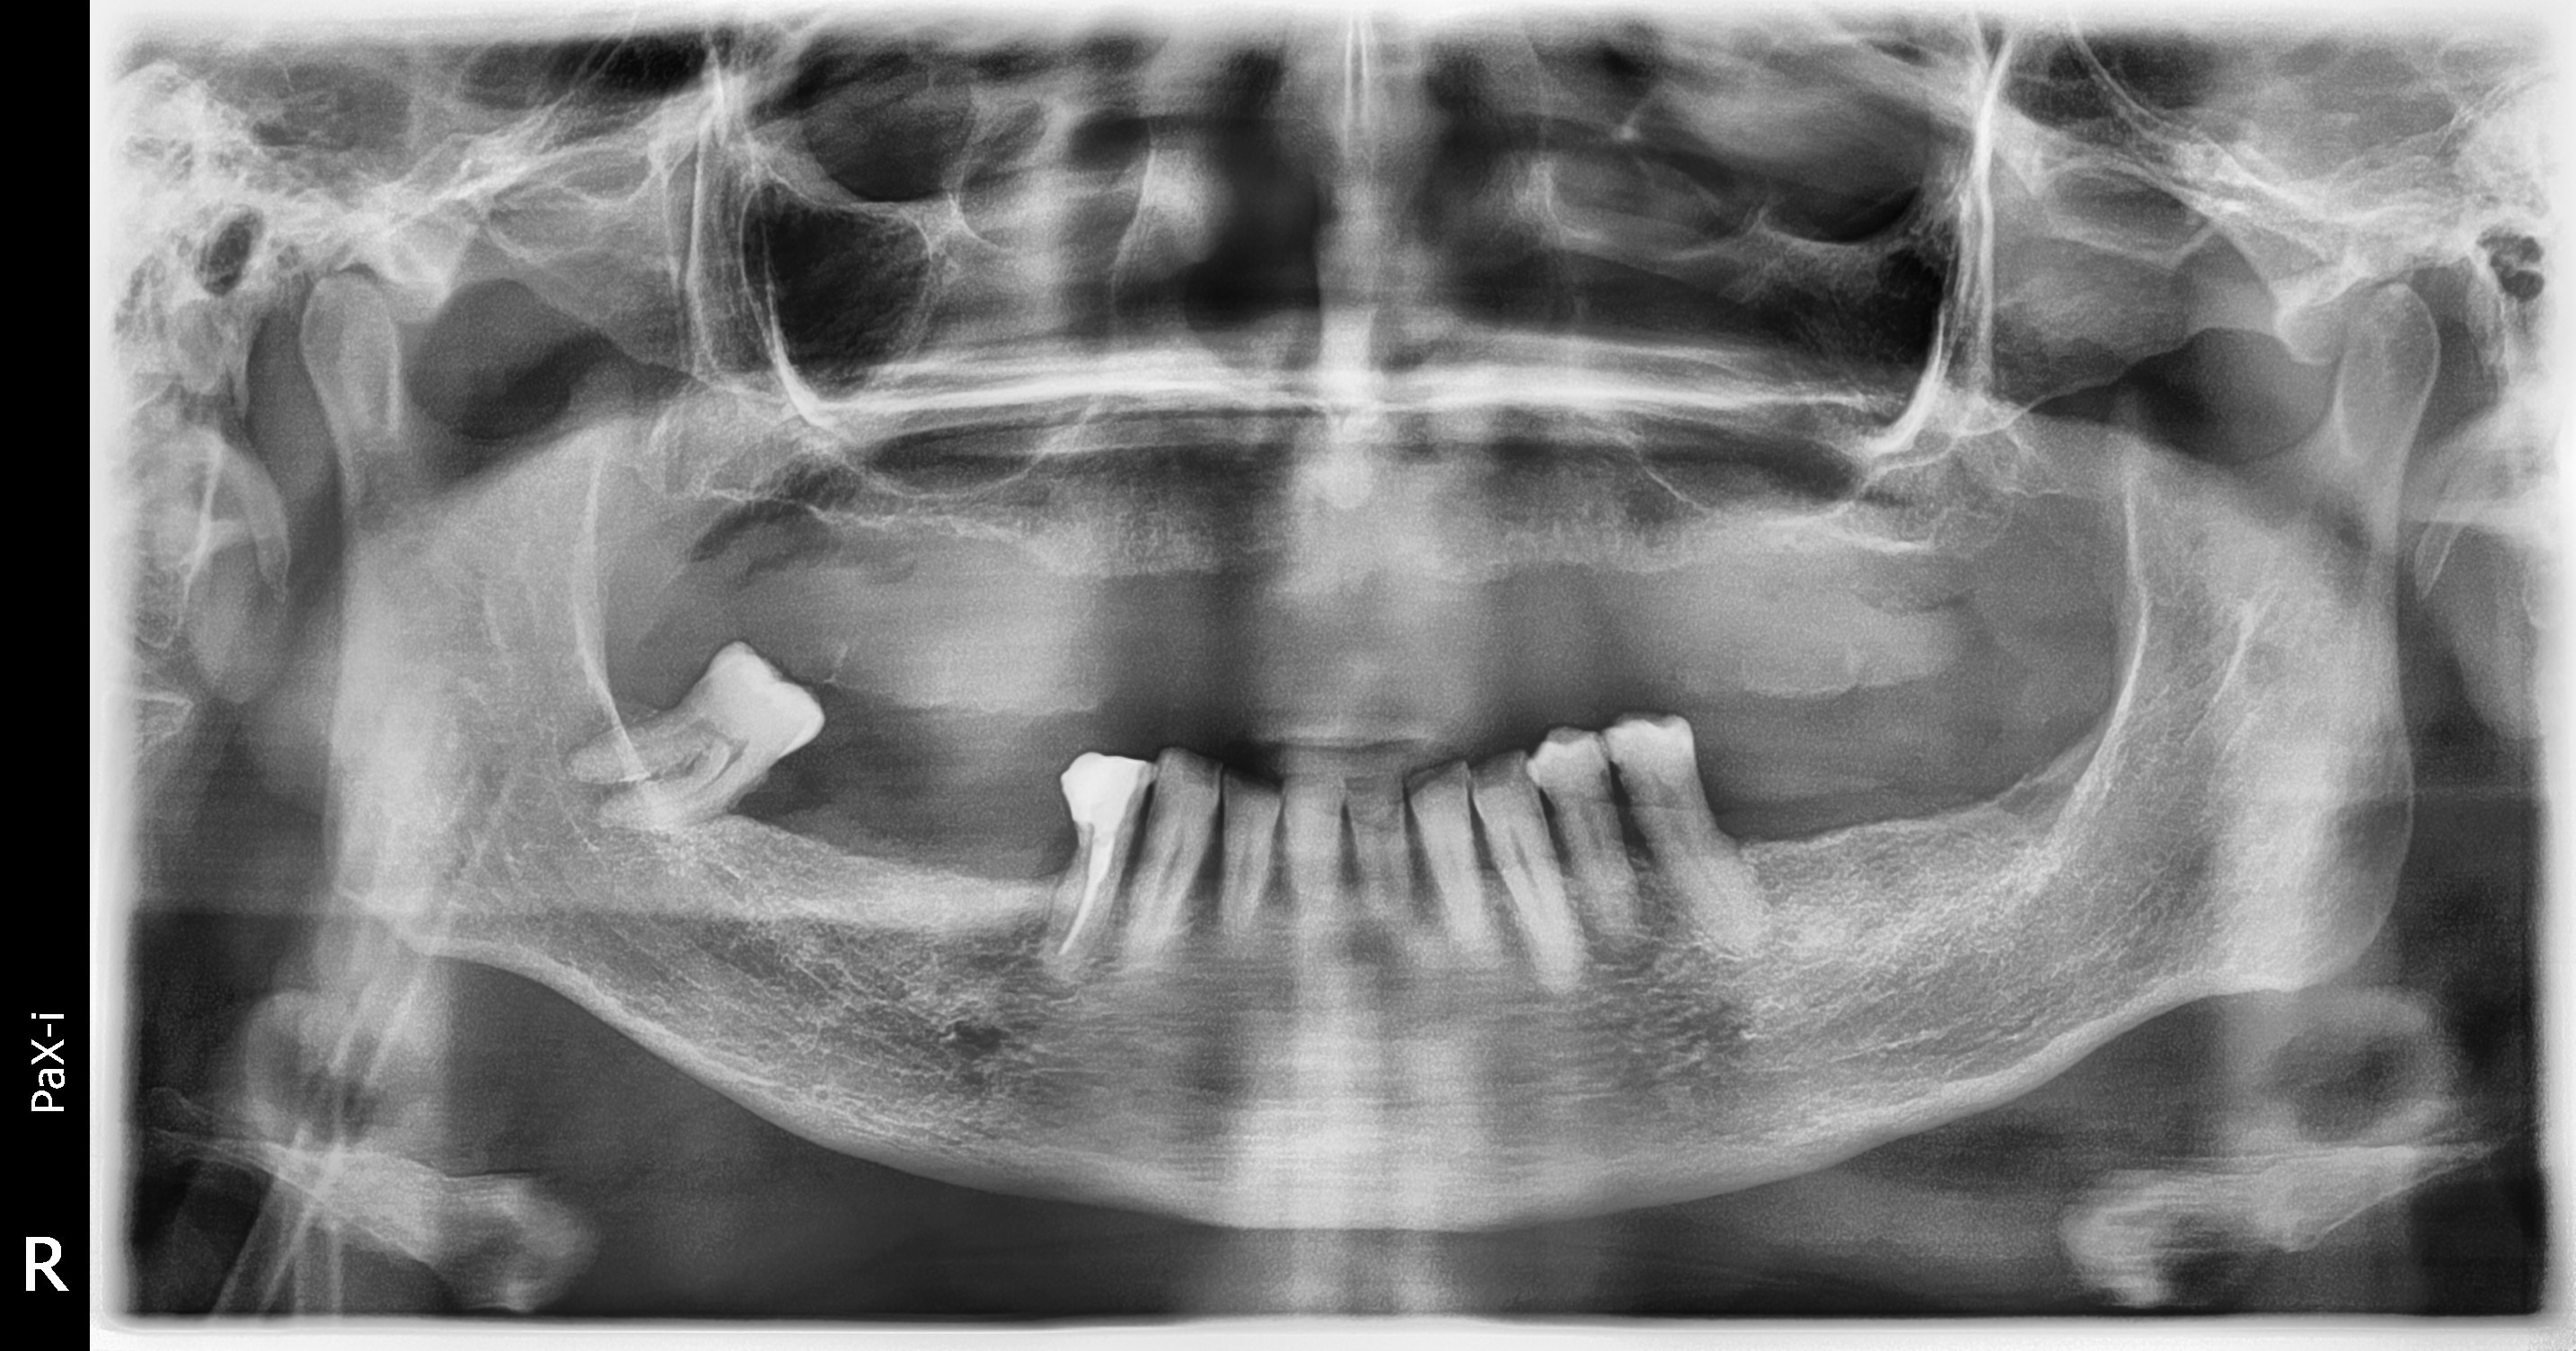END: (1036, 816, 1124, 998)
OBT: (1046, 743, 1152, 852)
